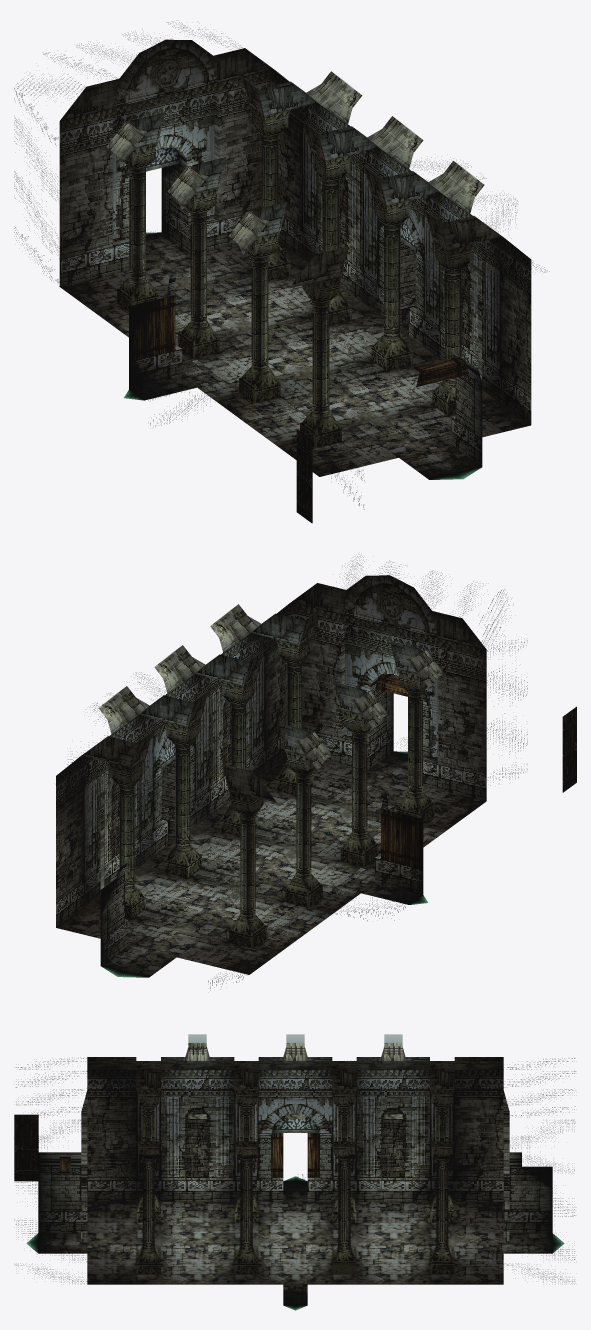
The model's file is MAP133.gltf.
3 views of the same model, one above another, from view 1: azimuth 30°, elevation 25°; view 2: azimuth 150°, elevation 25°; view 3: azimuth 270°, elevation 25° (orthographic). The views are drawn at different scales.
Size of the model in its own units: 179 by 102 by 294.
Materials: 58 (58 with a texture image).
